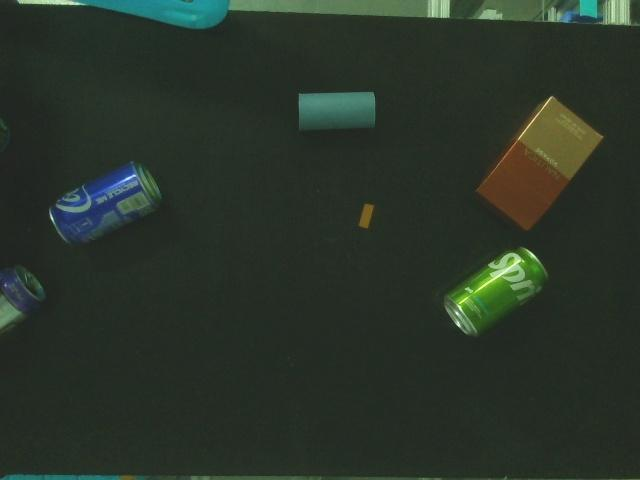cardboard: (470, 94, 605, 237), (296, 90, 378, 136)
metal: (48, 160, 168, 252), (440, 245, 550, 337), (0, 262, 45, 340)
plastic: (356, 201, 376, 231)
